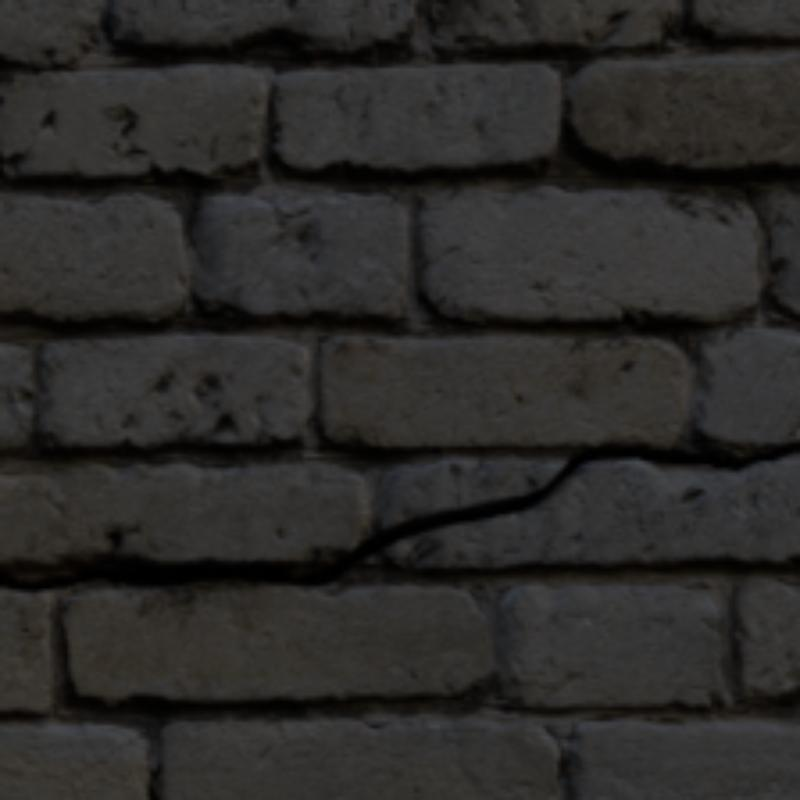pothole: (0, 443, 796, 589)
